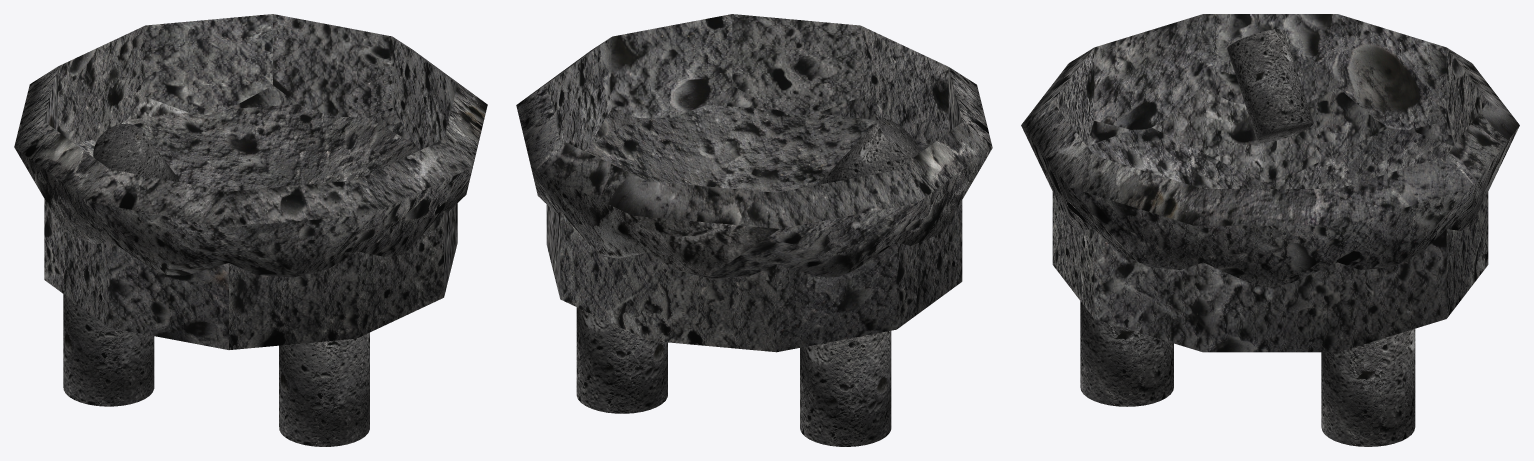
Rendered from molcajete.obj.
The picture shows the model from 3 angles, left to right: view 1: azimuth 30°, elevation 25°; view 2: azimuth 150°, elevation 25°; view 3: azimuth 270°, elevation 25°; orthographic projection. The views are drawn at different scales.
Visible parts, largest first — view 1: Molcajete, Medio, Der, Tejolote; view 2: Molcajete, Der, Izq, Tejolote; view 3: Molcajete, Izq, Medio, Tejolote.
Part boxes in pixels (<box>): Molcajete: <box>14,14,487,349</box>; Medio: <box>279,332,369,446</box>; Der: <box>63,294,154,406</box>; Tejolote: <box>93,123,179,182</box>; Molcajete: <box>516,14,992,352</box>; Der: <box>800,331,891,446</box>; Izq: <box>576,307,667,413</box>; Tejolote: <box>817,118,921,184</box>; Molcajete: <box>1021,14,1519,352</box>; Izq: <box>1321,329,1415,446</box>; Medio: <box>1080,301,1173,406</box>; Tejolote: <box>1227,29,1313,142</box>.
Bounding box in the file's own units: 2 × 1.36 × 2.1.
